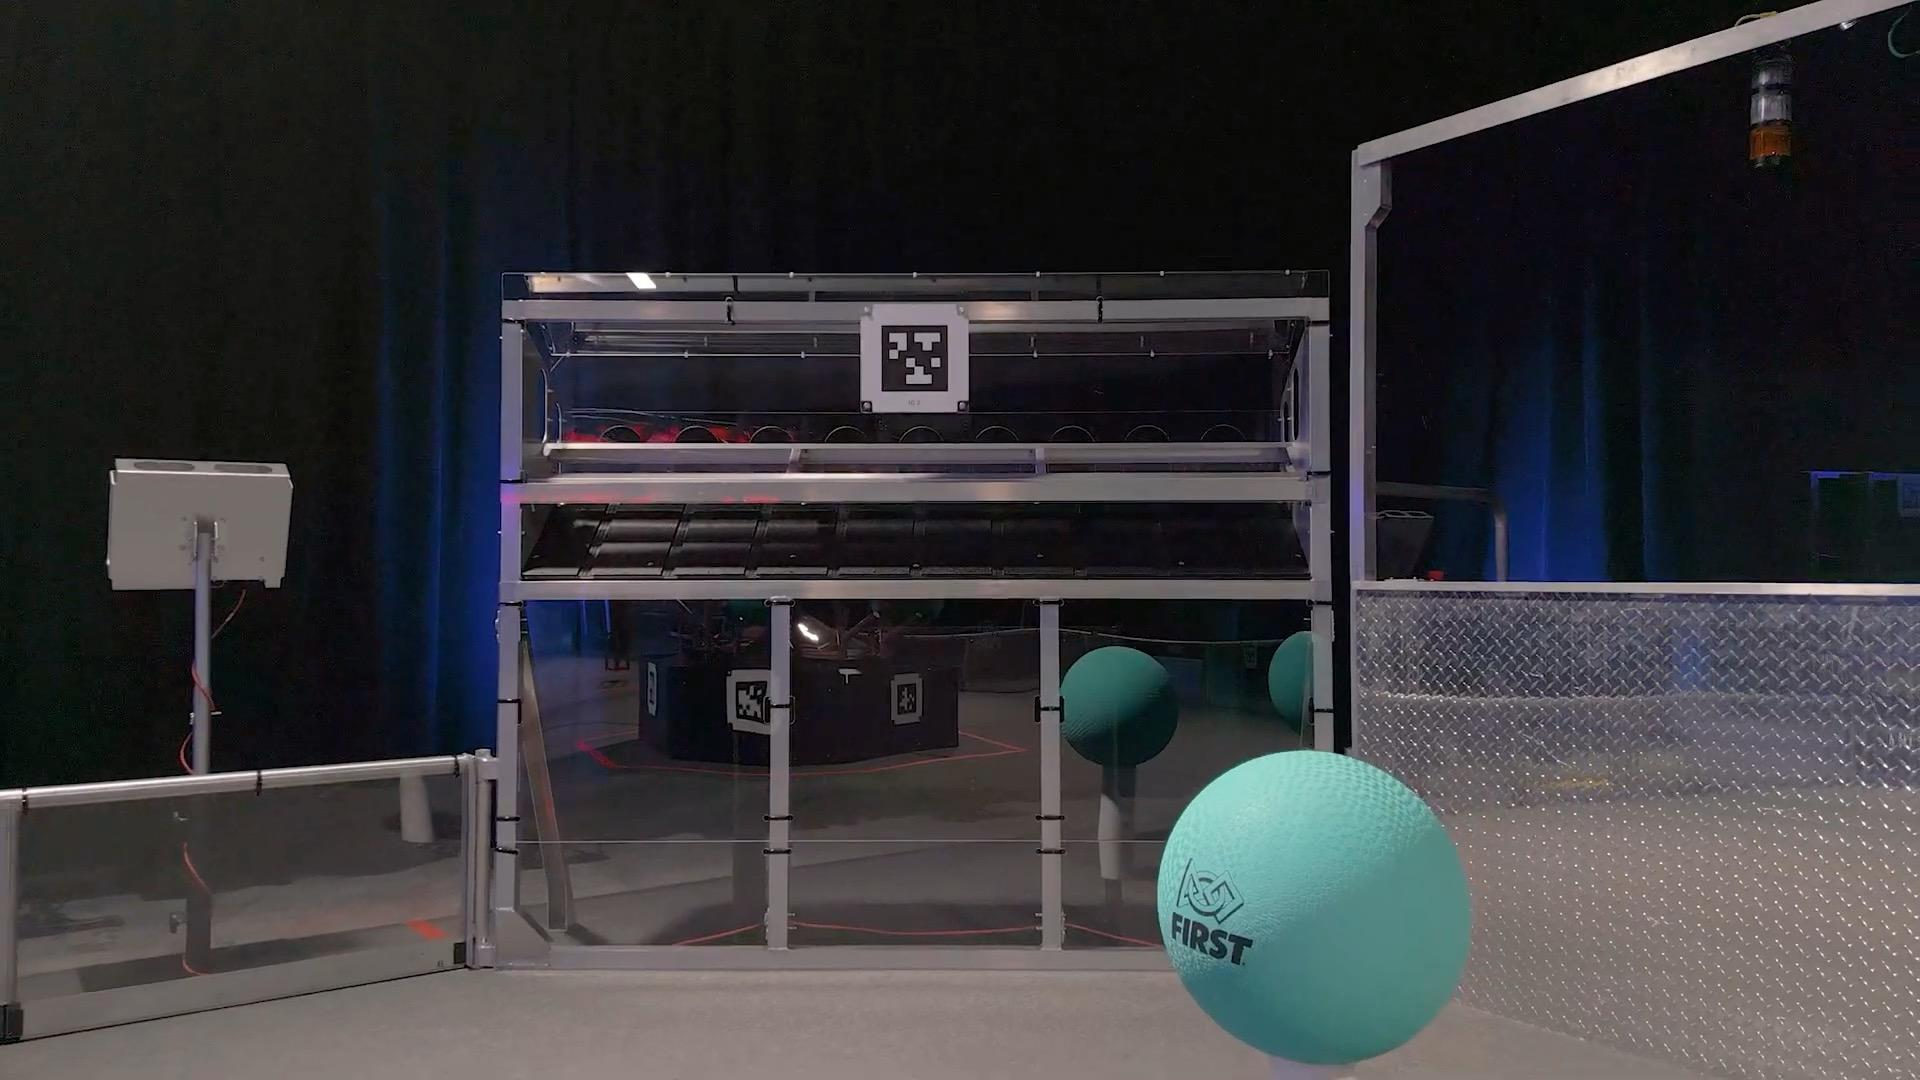ALGAE: (1158, 752, 1474, 1064)
